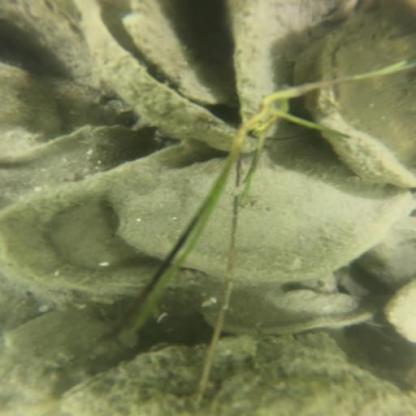Oyster- Indeterminate: (283, 284, 356, 314)
Oyster-Closed: (108, 157, 415, 285), (53, 335, 410, 415), (296, 0, 416, 197), (9, 308, 143, 404), (0, 0, 107, 95), (124, 5, 213, 101), (3, 65, 59, 136), (360, 215, 414, 287), (387, 280, 414, 342)
Oyster-Open: (76, 0, 275, 151)
